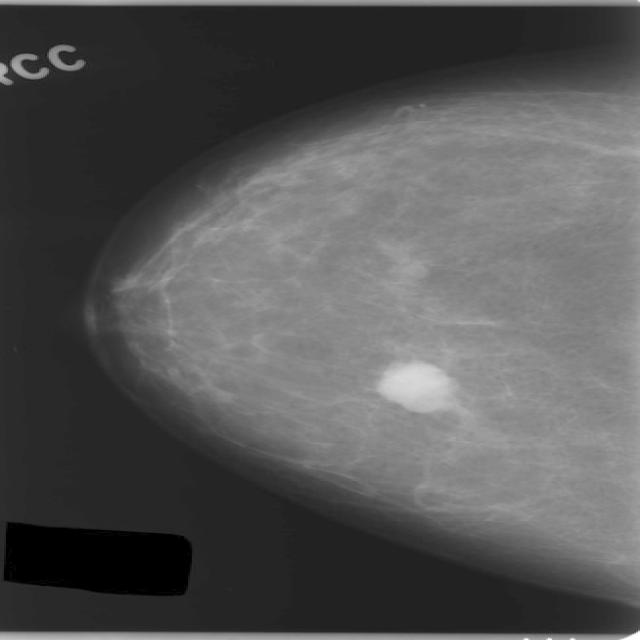tumour: (374, 359, 450, 412)
